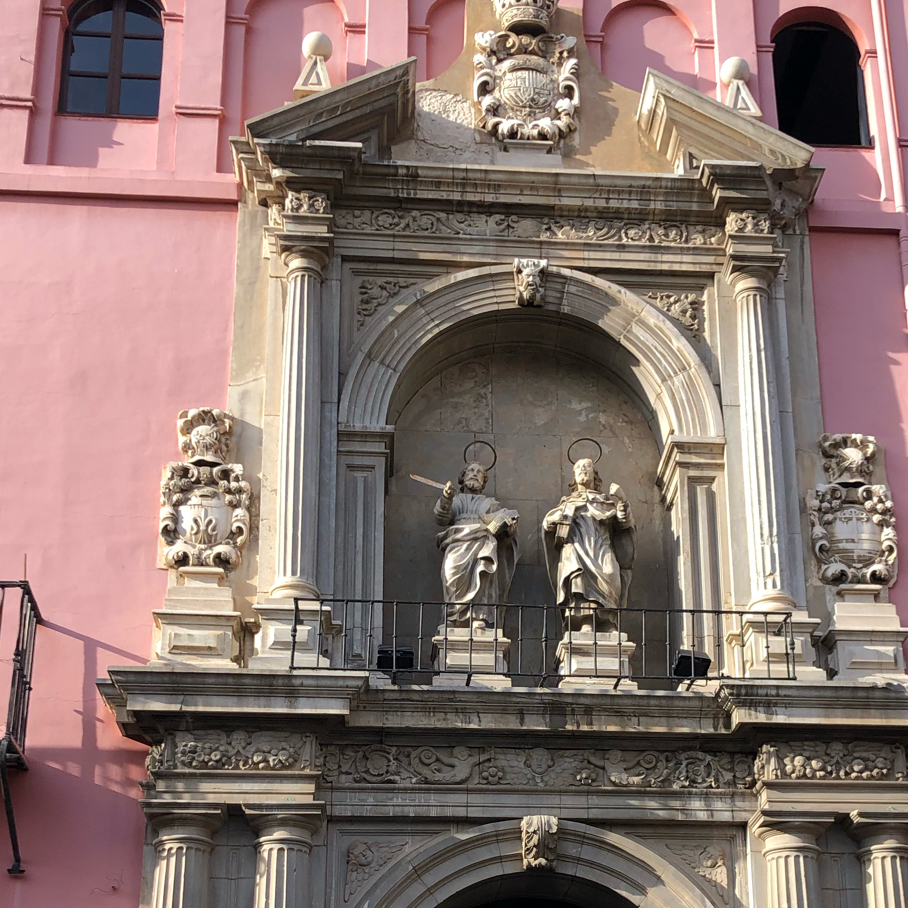arco-medio-punto: (364, 290, 692, 493)
fronton-partido: (246, 54, 806, 201)
